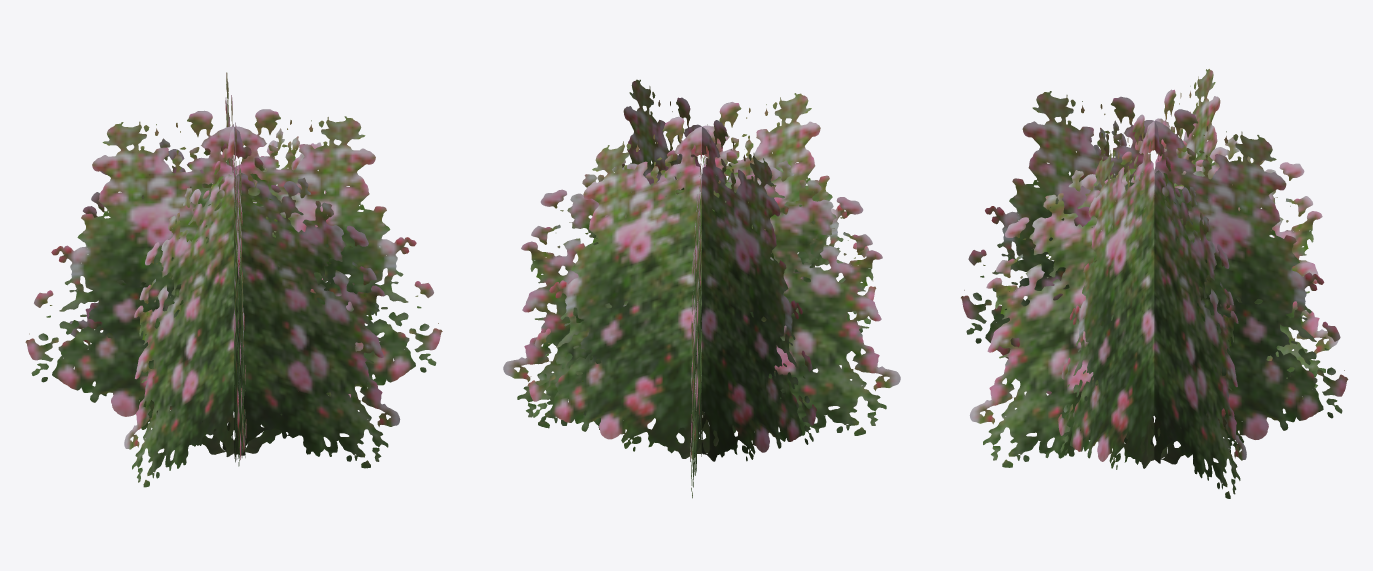
Rendered from Shrub_C1.fbx.
The picture shows the model from 3 angles, left to right: view 1: azimuth 30°, elevation 25°; view 2: azimuth 150°, elevation 25°; view 3: azimuth 270°, elevation 25°; orthographic projection. The views are drawn at different scales.
Parts seen in each view (by area): view 1: Shrub_C1; view 2: Shrub_C1; view 3: Shrub_C1.
Part boxes in pixels (x1,y1,x2,y2): Shrub_C1: (25, 72, 442, 487); Shrub_C1: (503, 79, 900, 498); Shrub_C1: (961, 69, 1348, 498).
Bounding box in the file's own units: 1 × 1 × 1.
